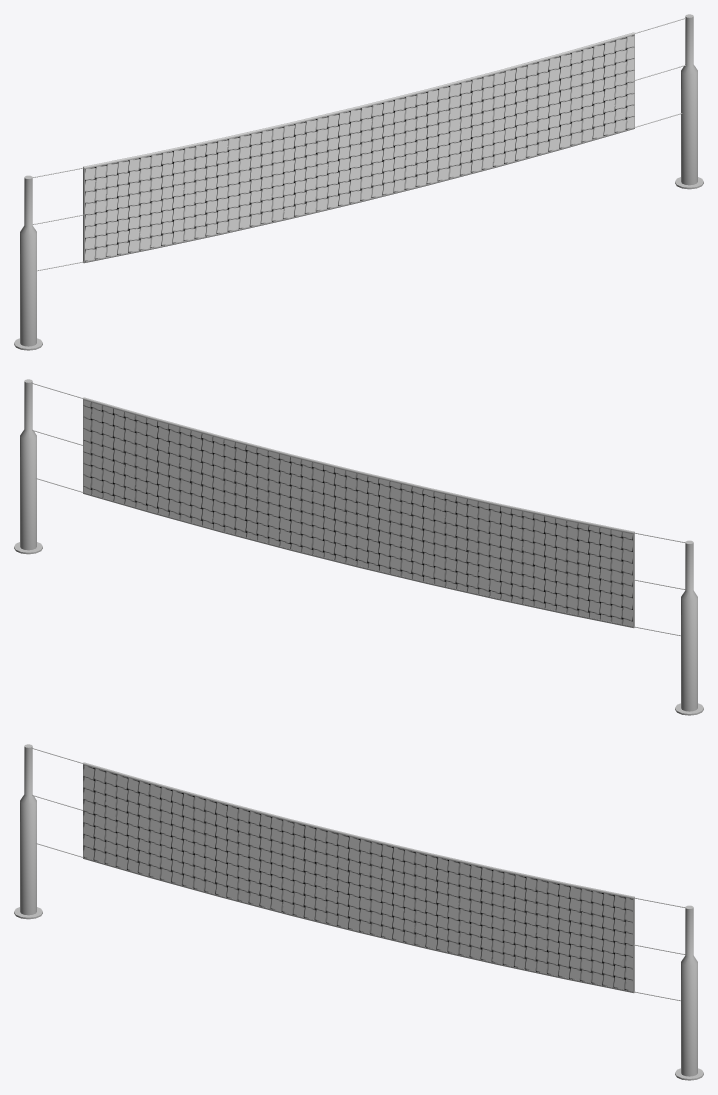
The model's file is volleyball_net.FBX.
3 renders of one model, top to bottom at view 1: azimuth 30°, elevation 25°; view 2: azimuth 150°, elevation 25°; view 3: azimuth 330°, elevation 25°, orthographic.
Visible parts, largest first — view 1: volleyball_net; view 2: volleyball_net; view 3: volleyball_net.
Part boxes in pixels (x1,y1,x2,y2): volleyball_net: [14, 14, 703, 350]; volleyball_net: [14, 379, 703, 715]; volleyball_net: [14, 744, 703, 1080].
Size of the model in its own units: 11.39 by 2.65 by 0.4174.
